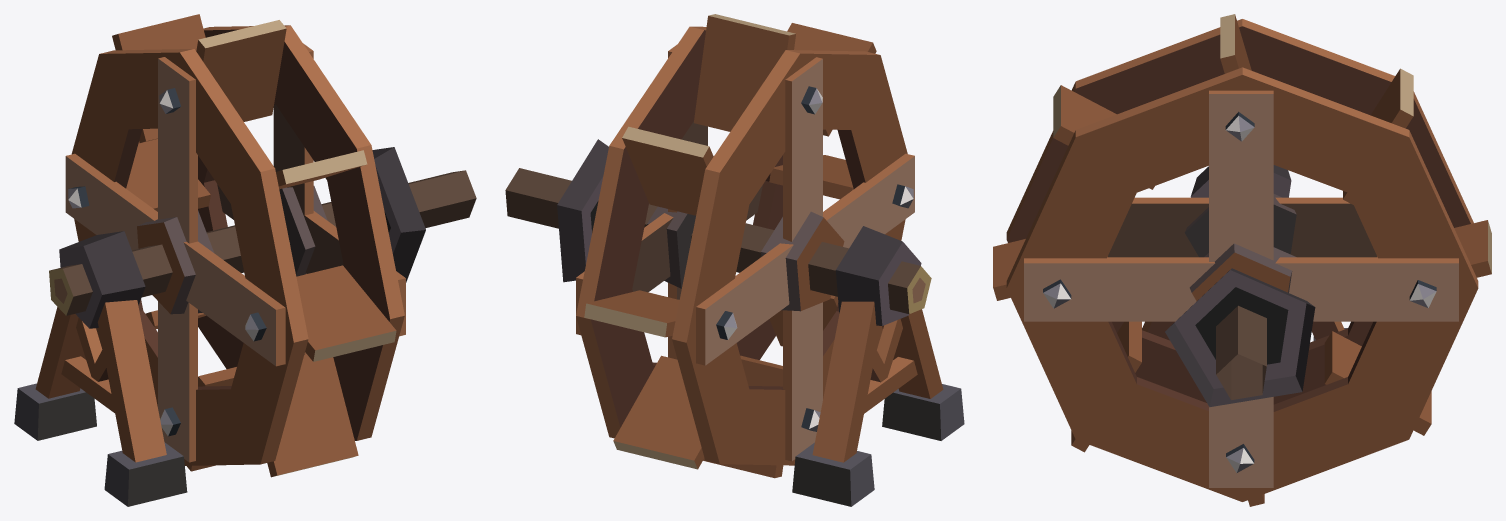
The model's file is TB_Bd_Waterwheel.FBX.
The picture shows the model from 3 angles, left to right: view 1: azimuth 30°, elevation 25°; view 2: azimuth 150°, elevation 25°; view 3: azimuth 270°, elevation 25°; orthographic projection. The views are drawn at different scales.
Visible parts, largest first — view 1: TB_Bd_Waterwheel, TB_Bd_WaterwheelAxis; view 2: TB_Bd_Waterwheel, TB_Bd_WaterwheelAxis; view 3: TB_Bd_Waterwheel, TB_Bd_WaterwheelAxis.
Part boxes in pixels (bbox=[...]): TB_Bd_Waterwheel: bbox=[49, 14, 476, 477]; TB_Bd_WaterwheelAxis: bbox=[14, 147, 425, 506]; TB_Bd_Waterwheel: bbox=[505, 14, 931, 478]; TB_Bd_WaterwheelAxis: bbox=[557, 139, 964, 506]; TB_Bd_Waterwheel: bbox=[993, 14, 1491, 506]; TB_Bd_WaterwheelAxis: bbox=[1142, 165, 1347, 407].
Size of the model in its own units: 6.3 by 6.53 by 6.53.
